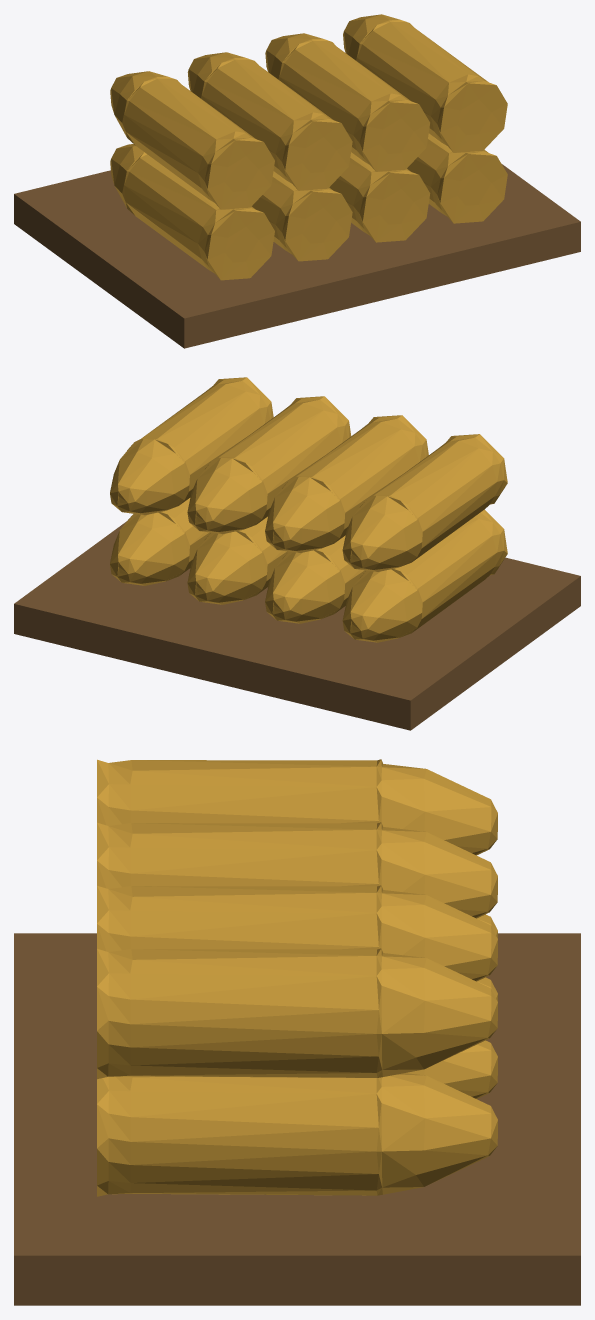
The model's file is municao_9mm.glb.
3 renders of one model, top to bottom at view 1: azimuth 30°, elevation 25°; view 2: azimuth 150°, elevation 25°; view 3: azimuth 270°, elevation 25°, orthographic. The views are drawn at different scales.
Visible parts, largest first — view 1: Cube, 9MM_Bullet.004, 9MM_Bullet.005, 9MM_Bullet.007, 9MM_Bullet.006, 9MM_Bullet, 9MM_Bullet.002, 9MM_Bullet.003, 9MM_Bullet.001; view 2: Cube, 9MM_Bullet.004, 9MM_Bullet.007, 9MM_Bullet.005, 9MM_Bullet.006, 9MM_Bullet, 9MM_Bullet.002, 9MM_Bullet.001, 9MM_Bullet.003; view 3: Cube, 9MM_Bullet.007, 9MM_Bullet.003, 9MM_Bullet.006, 9MM_Bullet.005, 9MM_Bullet.004, 9MM_Bullet.002.
Part boxes in pixels (x1,y1,x2,y2): Cube: (14,164,580,348); 9MM_Bullet.004: (110,71,274,209); 9MM_Bullet.005: (187,52,352,190); 9MM_Bullet.007: (343,14,507,152); 9MM_Bullet.006: (265,33,429,171); 9MM_Bullet: (110,144,274,280); 9MM_Bullet.002: (329,152,430,242); 9MM_Bullet.003: (407,133,507,223); 9MM_Bullet.001: (252,171,352,261); Cube: (14,521,580,730); 9MM_Bullet.004: (342,434,507,571); 9MM_Bullet.007: (110,377,273,515); 9MM_Bullet.005: (265,415,428,552); 9MM_Bullet.006: (187,396,351,534); 9MM_Bullet: (342,509,507,642); 9MM_Bullet.002: (187,516,288,604); 9MM_Bullet.001: (265,535,365,623); 9MM_Bullet.003: (110,498,210,585); Cube: (14,933,580,1305); 9MM_Bullet.007: (97,948,497,1079); 9MM_Bullet.003: (97,1073,497,1196); 9MM_Bullet.006: (97,885,497,981); 9MM_Bullet.005: (97,822,497,918); 9MM_Bullet.004: (97,759,497,855); 9MM_Bullet.002: (406,1040,497,1098).
Size of the model in its own units: 0.0551 by 0.0228 by 0.041.
